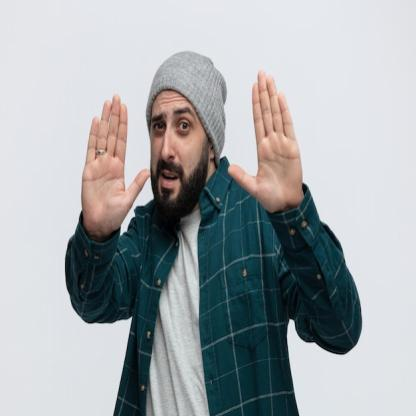stop: (226, 68, 308, 220), (79, 86, 152, 236)
